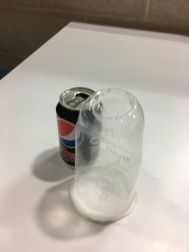can_black: (44, 86, 107, 175)
